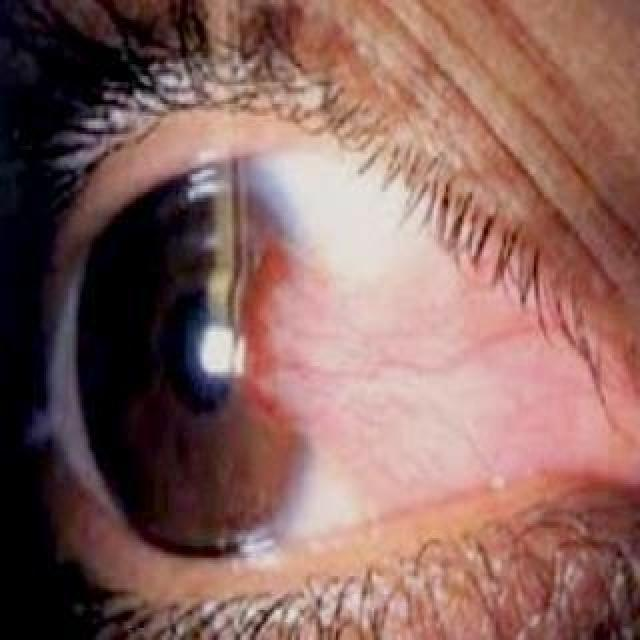Pterygium: (259, 201, 617, 527)
